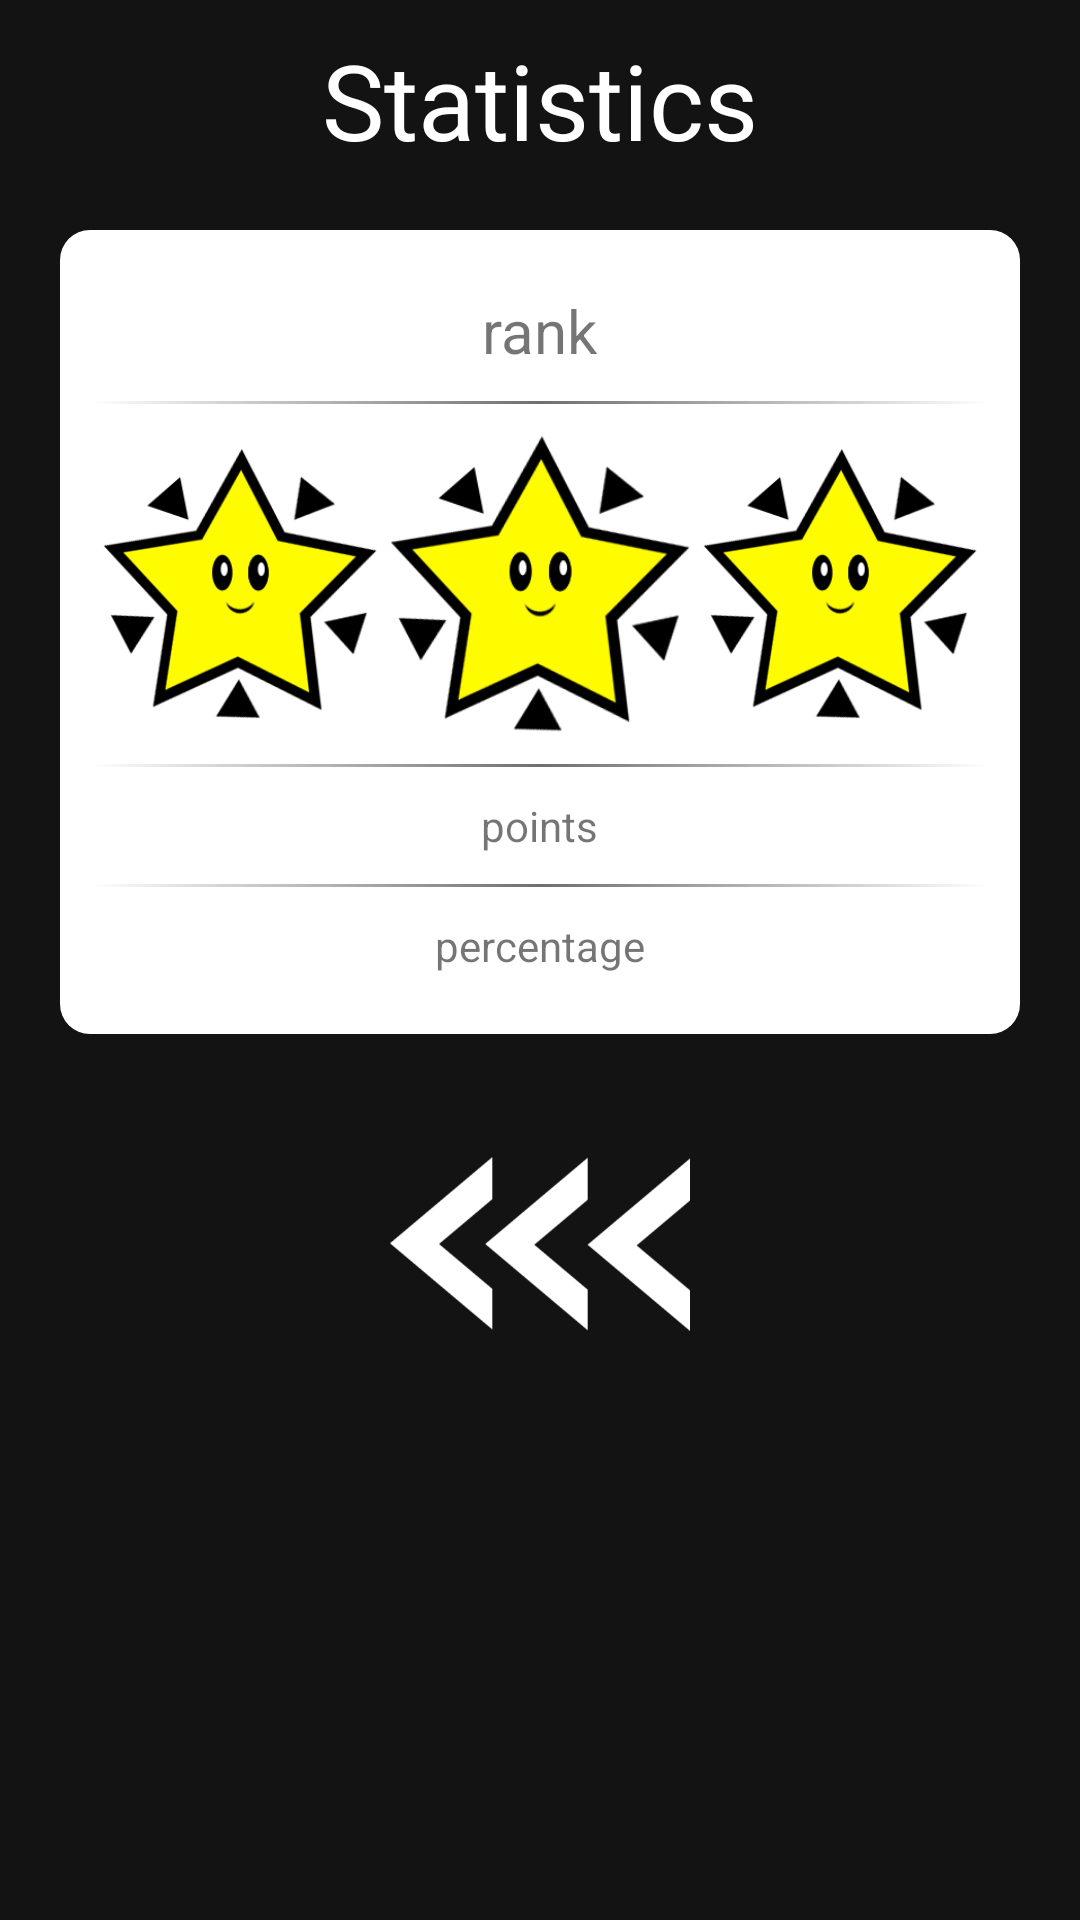

Named icons in this screenshot (1080x1920) and their bounding boxes, (x1, y1, x2, y2):
back: (390, 1157, 690, 1331)
star adult: (391, 436, 689, 731), (104, 449, 376, 718), (704, 449, 976, 718)
